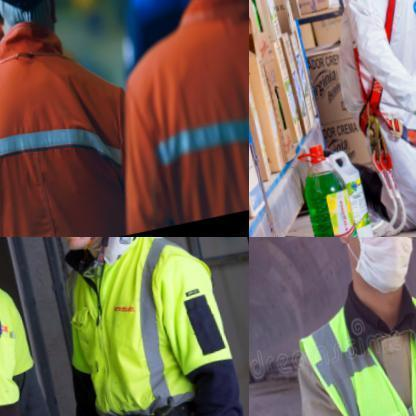vest: (0, 4, 144, 236), (117, 0, 248, 229), (289, 275, 415, 415), (301, 0, 415, 135)
